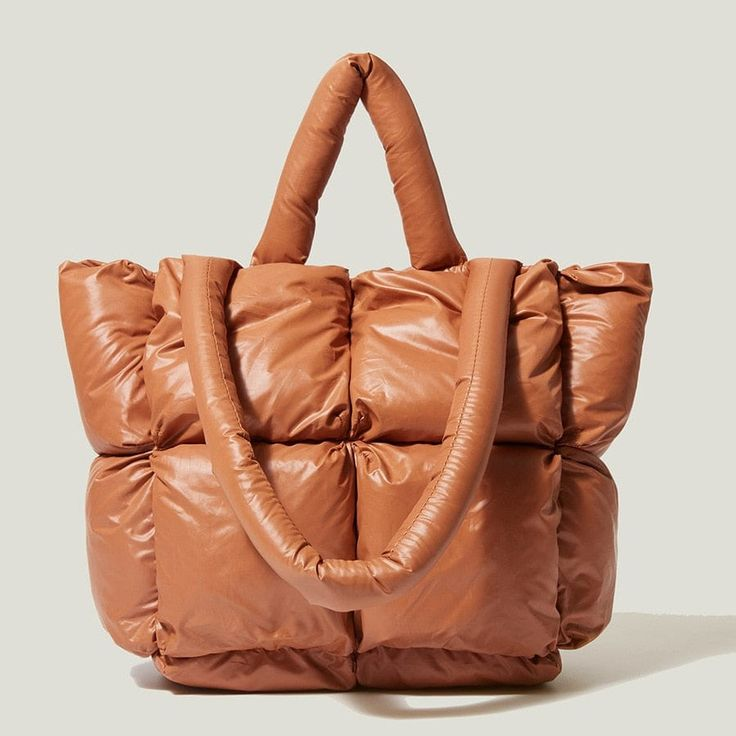nylon: (59, 52, 654, 694)
